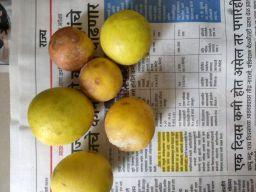lemon: (27, 85, 95, 146), (103, 96, 157, 153), (100, 9, 153, 66), (51, 150, 115, 192), (78, 57, 124, 103), (49, 26, 95, 71)
